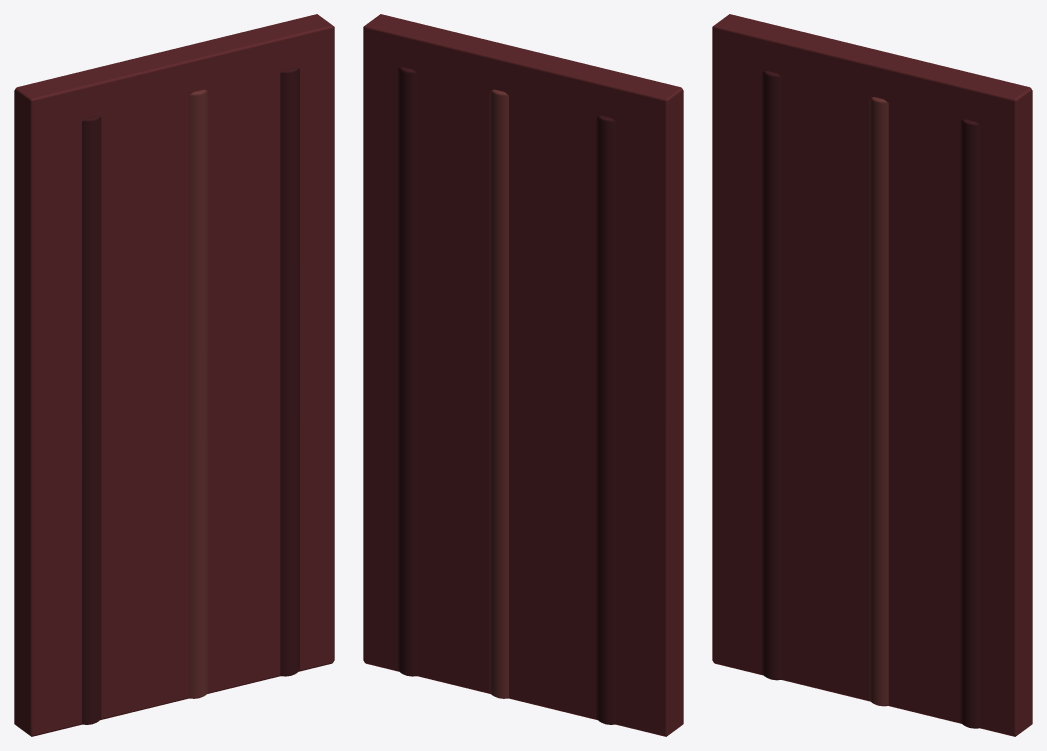
Rendered from living-cave-wall-sinew.e7b1ad35.glb.
3 renders of one model, left to right at view 1: azimuth 30°, elevation 25°; view 2: azimuth 150°, elevation 25°; view 3: azimuth 330°, elevation 25°, orthographic.
Parts seen in each view (by area): view 1: body; view 2: body; view 3: body.
Part boxes in pixels (x1,y1,x2,y2): body: (14,14,334,736); body: (363,14,683,736); body: (712,14,1032,736).
Bounding box in the file's own units: 1 × 2 × 0.13.
